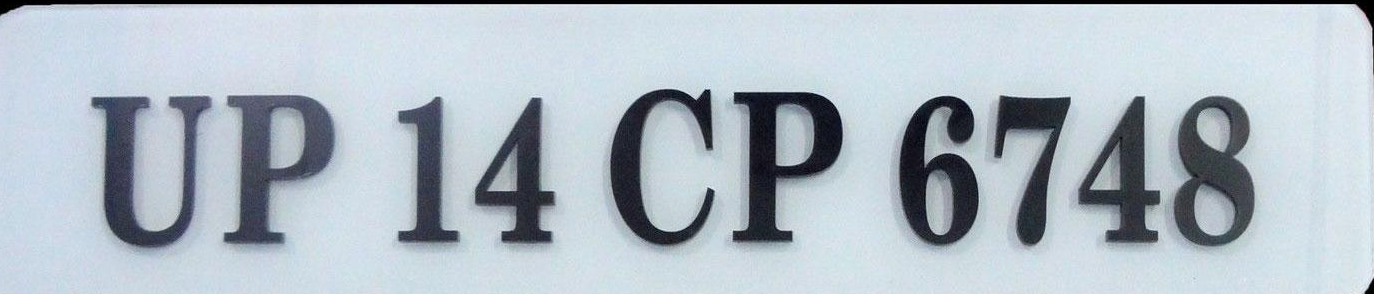1: (395, 95, 467, 245)
4: (472, 93, 566, 247), (1076, 94, 1169, 244)
6: (897, 94, 982, 247)
7: (991, 93, 1074, 251)
8: (1172, 92, 1256, 247)
C: (601, 84, 721, 247)
P: (731, 90, 846, 253), (220, 93, 337, 247)
U: (87, 92, 215, 250)
